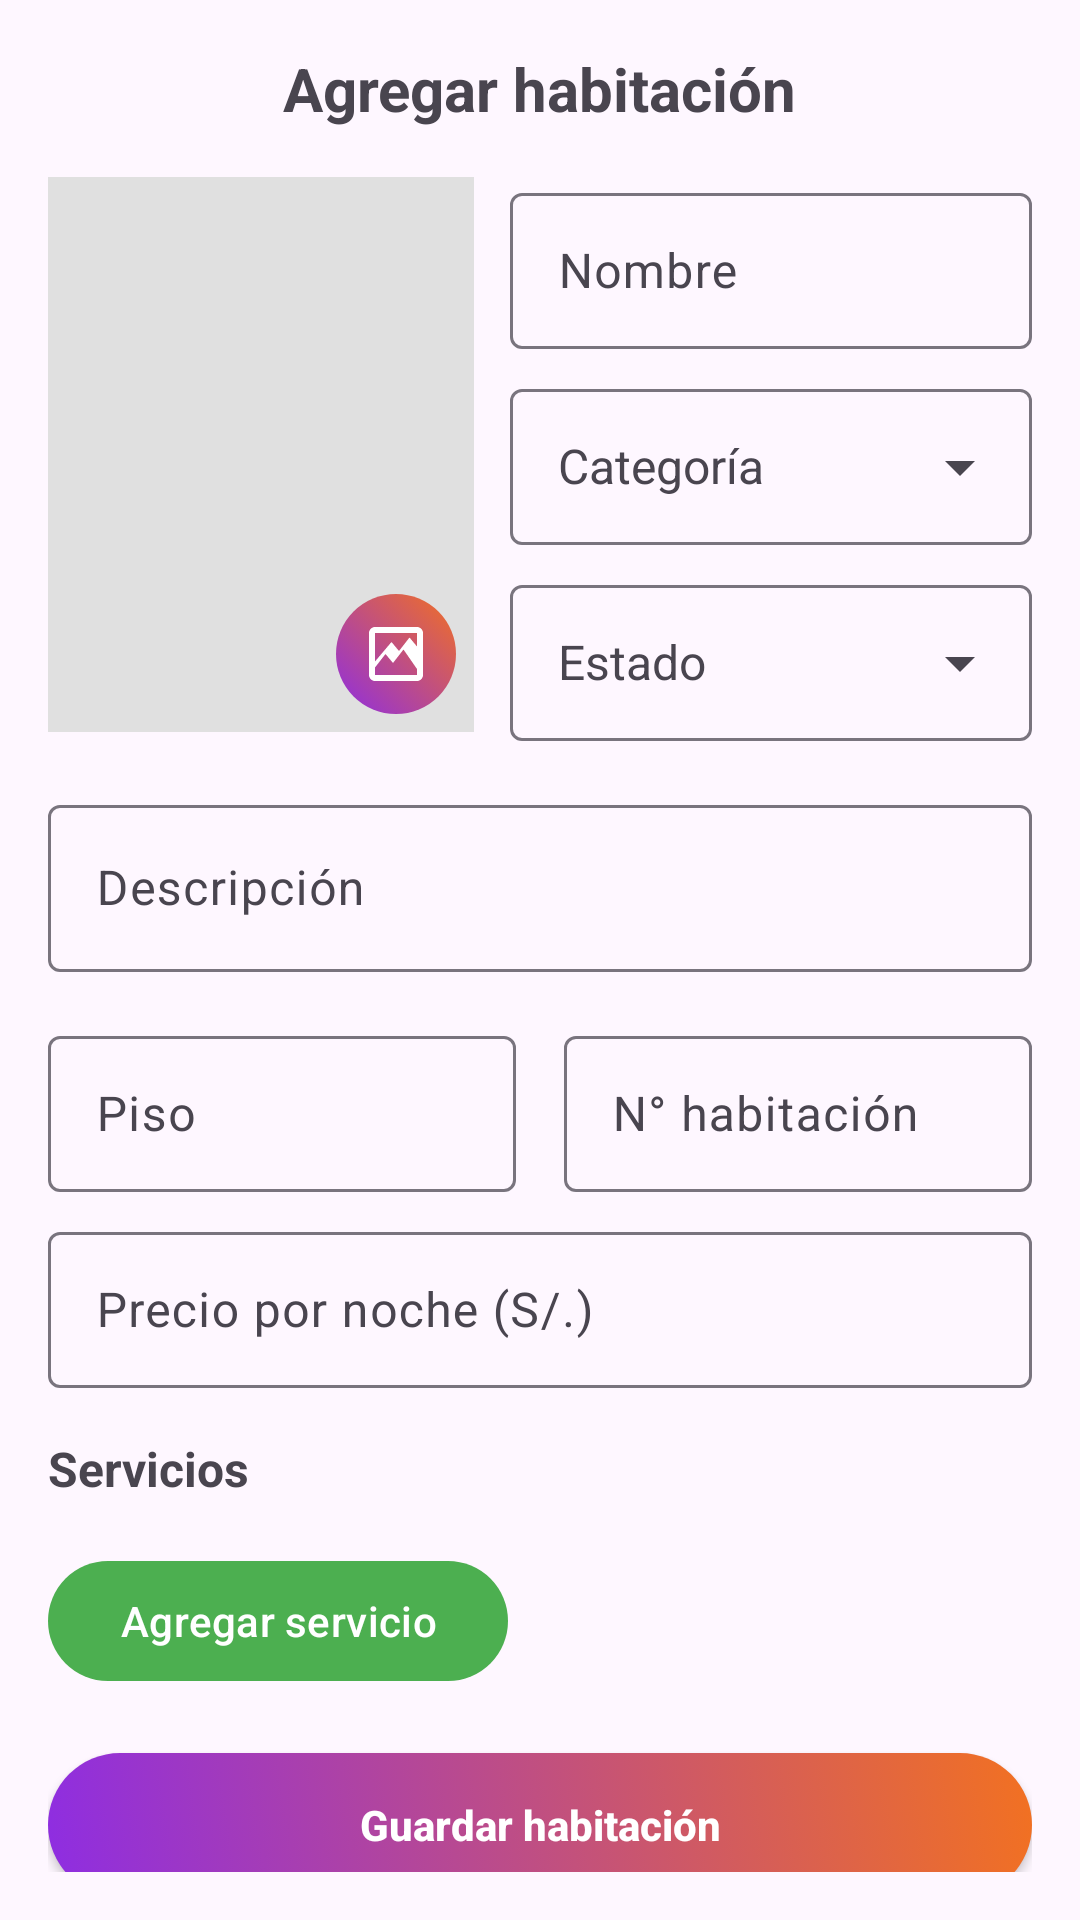

Point at icon controls on the screen. Image size 1080×1920, points as [x,y].
Seleccionar imagen: [396,654]
